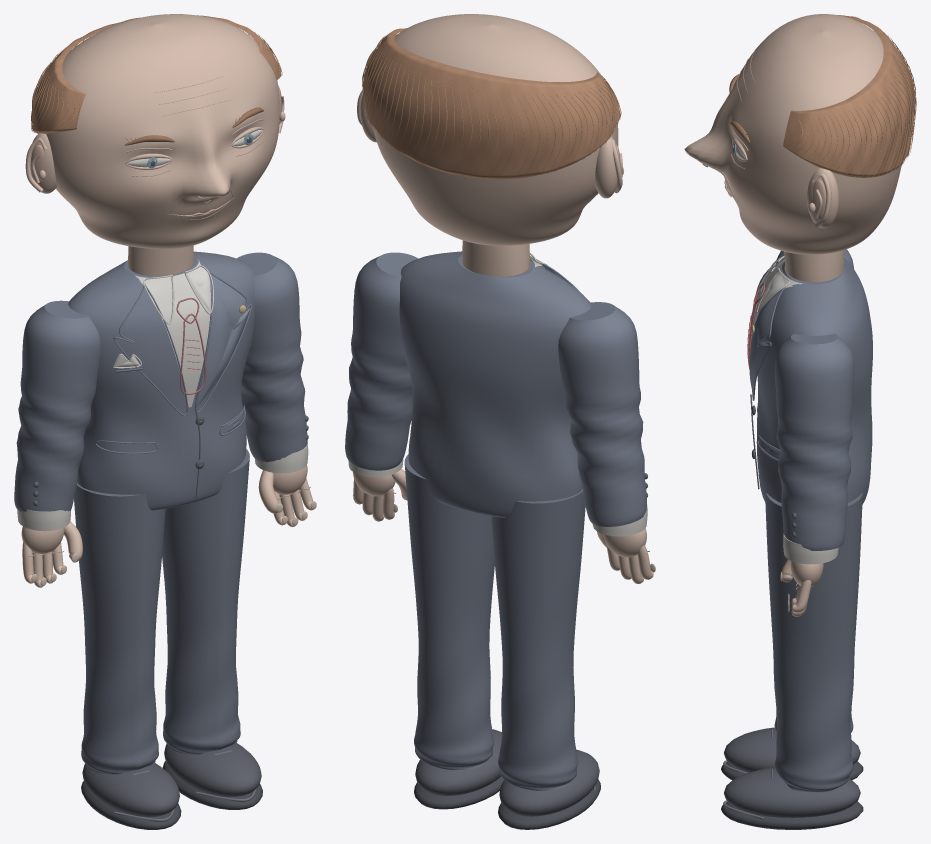
File: neil_kinnock_1990_v2.glb
3 views of the same model, side by side, from view 1: azimuth 30°, elevation 25°; view 2: azimuth 150°, elevation 25°; view 3: azimuth 270°, elevation 25° (orthographic). The views are drawn at different scales.
Visible parts, largest first — view 1: Neil Kinnock; view 2: Neil Kinnock; view 3: Neil Kinnock.
Boxes of the visible parts, x1=… form: Neil Kinnock: x1=14, y1=14, x2=316, y2=829; Neil Kinnock: x1=345, y1=14, x2=655, y2=829; Neil Kinnock: x1=684, y1=14, x2=916, y2=829.
Bounding box in the file's own units: 1.8 × 4.57 × 1.25.
